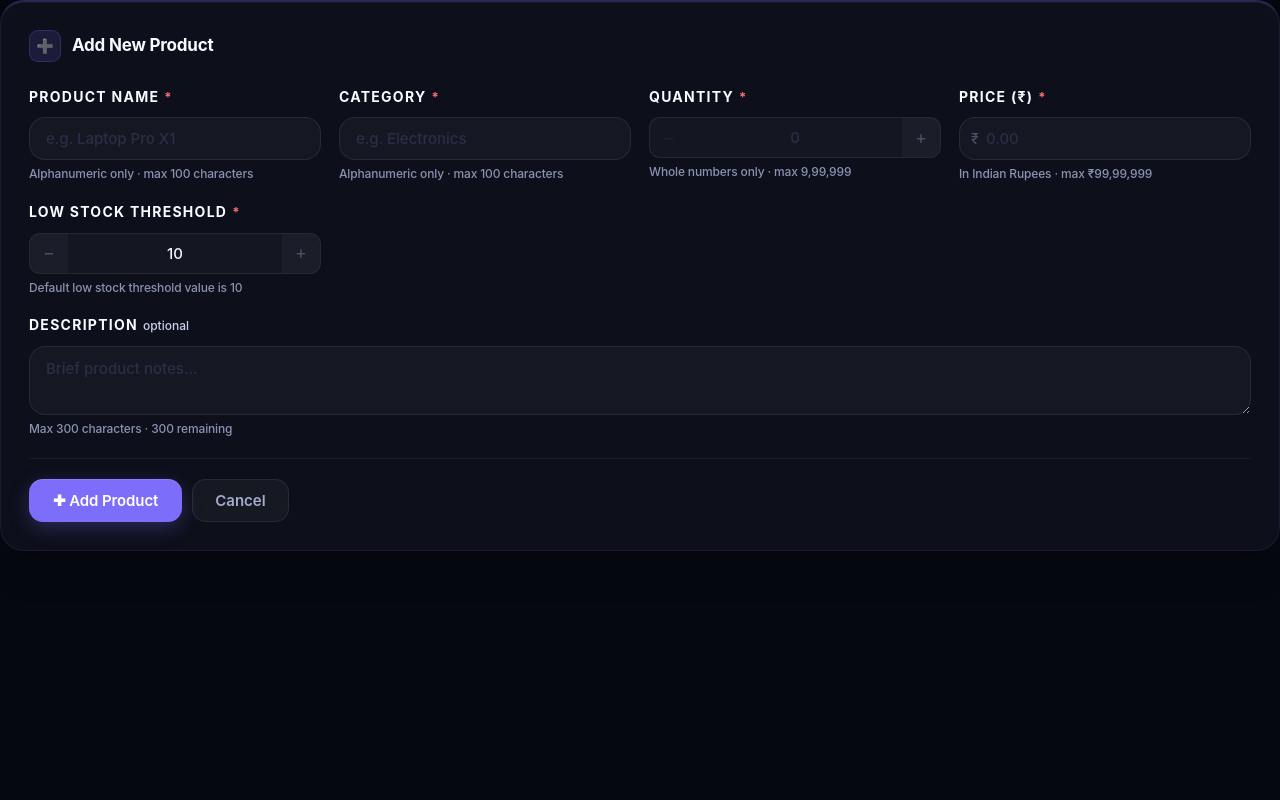
Scenario: Page Load — ProductForm › shows alphanumeric validation error for special chars in name
Step 1. Type "Widget@!#" into the field with placeholder "e.g. Laptop Pro X1" → coordinates (175, 139), box top-left (29, 117), bottom-right (321, 160)
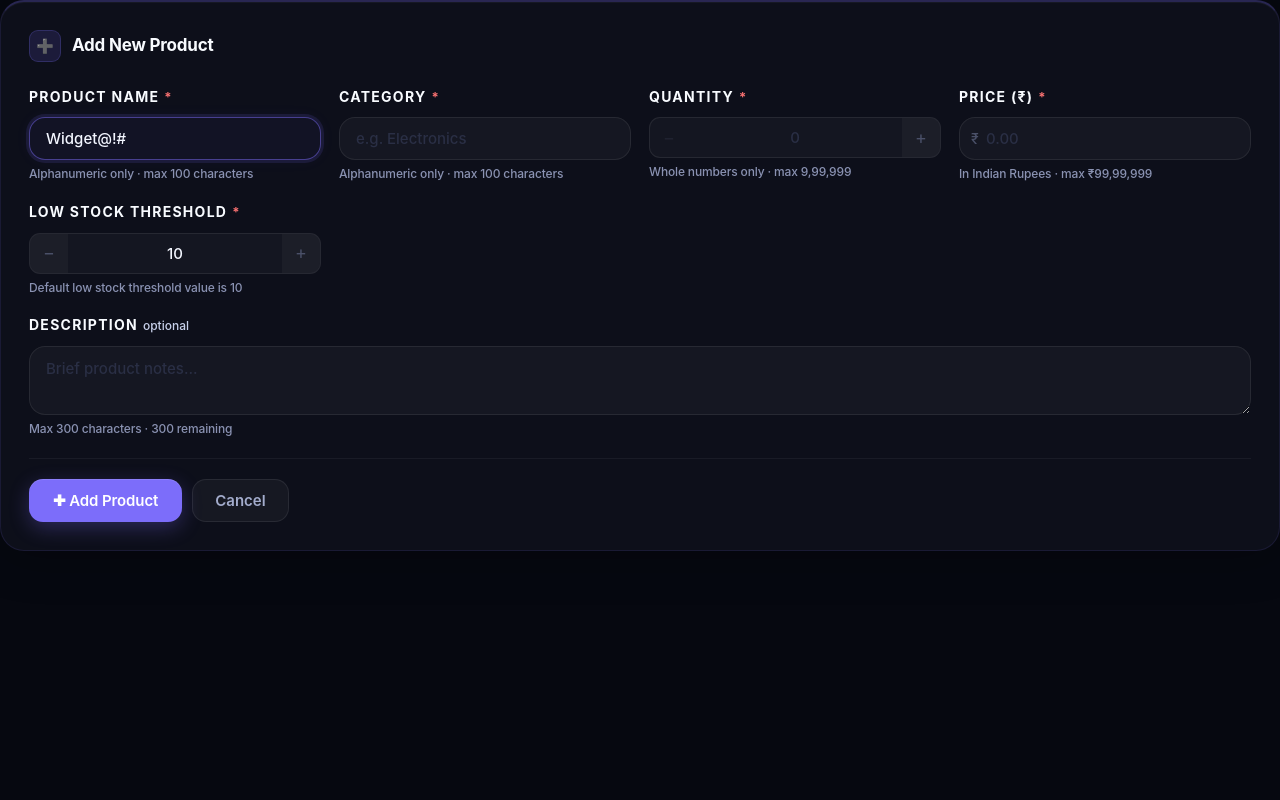
Step 2. Leave the field with placeholder "e.g. Laptop Pro X1" below "Product Name", box top-left (29, 117), bottom-right (321, 160)
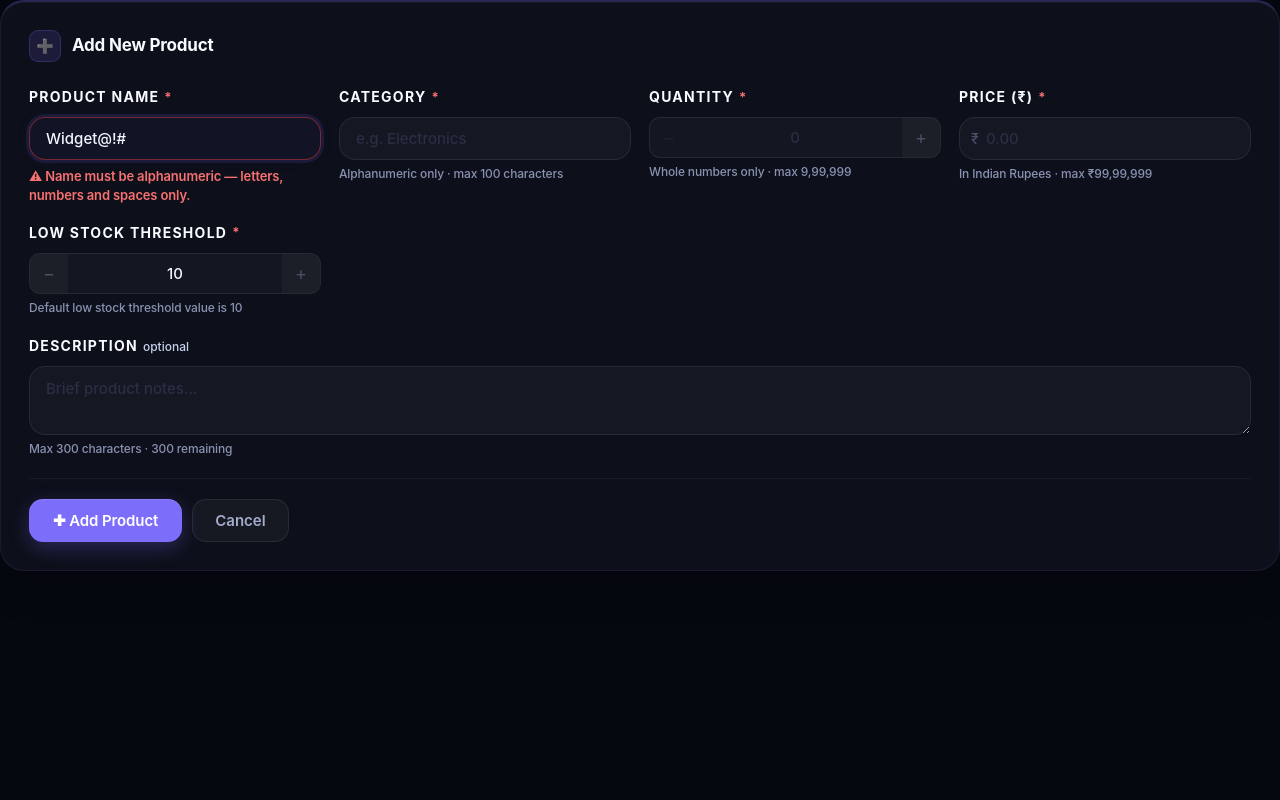
expect the message shows "alphanumeric": met, box top-left (29, 168), bottom-right (283, 203)
